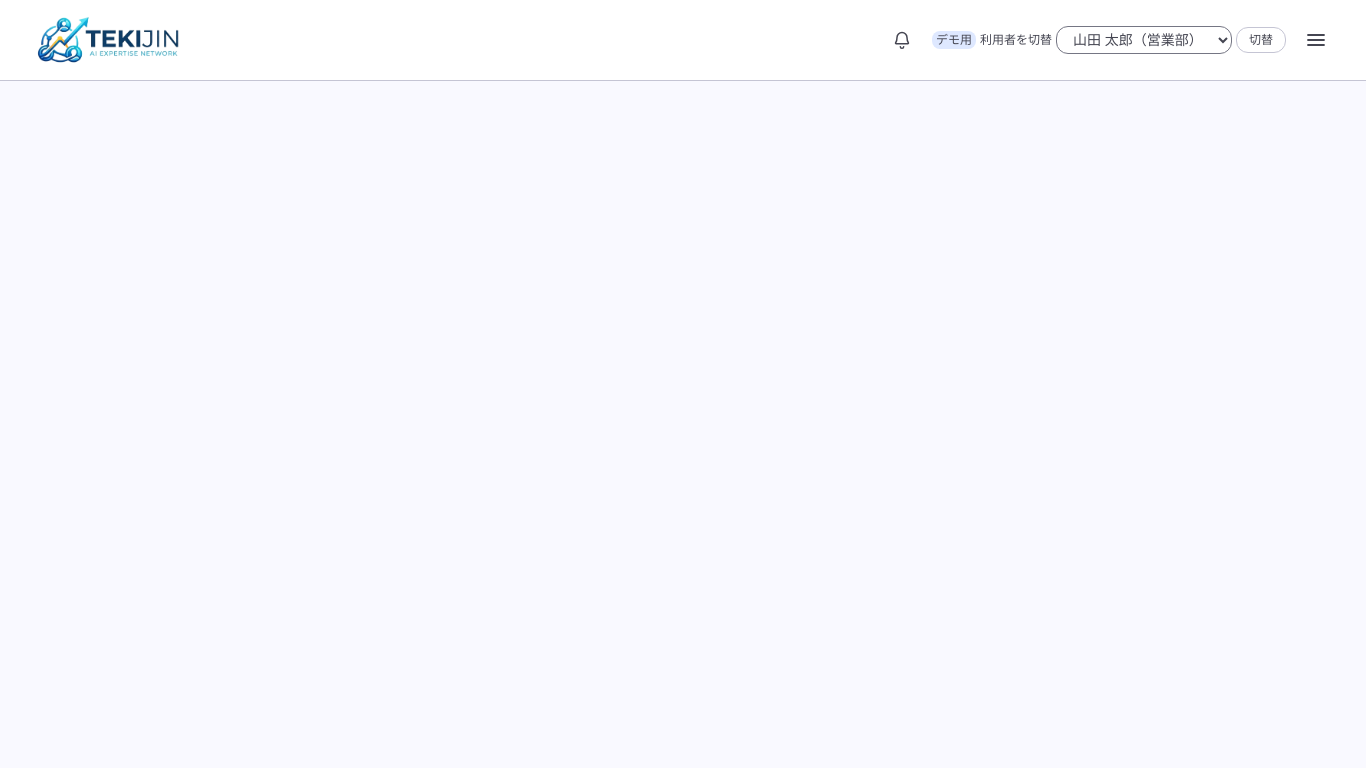
it: AppHeader › shows the acting admin's own name in the menu, distinct from the demo switcher
Click the button named "メニューを開く": [1316, 40] box [1298,22,1334,58]
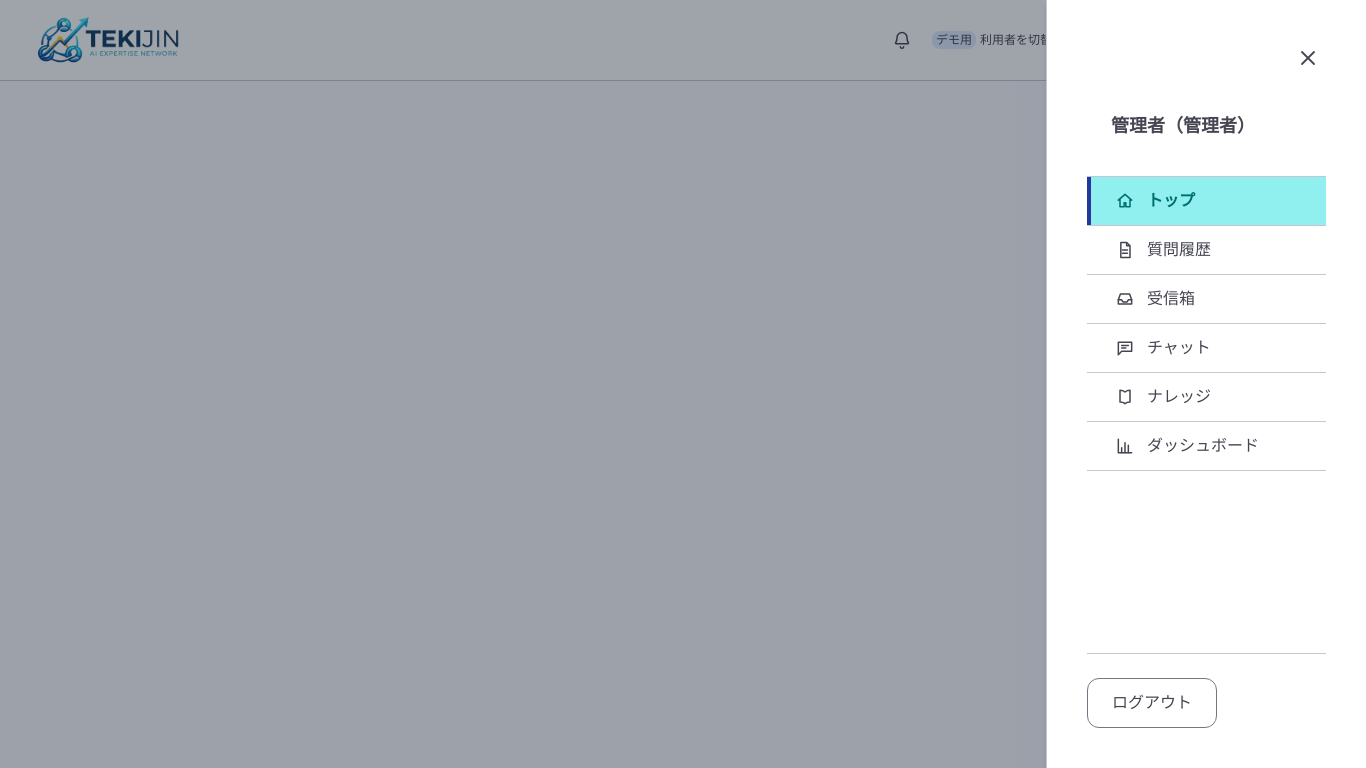
Now the text "管理者（管理者）" is shown, box [1111,116,1255,136]
